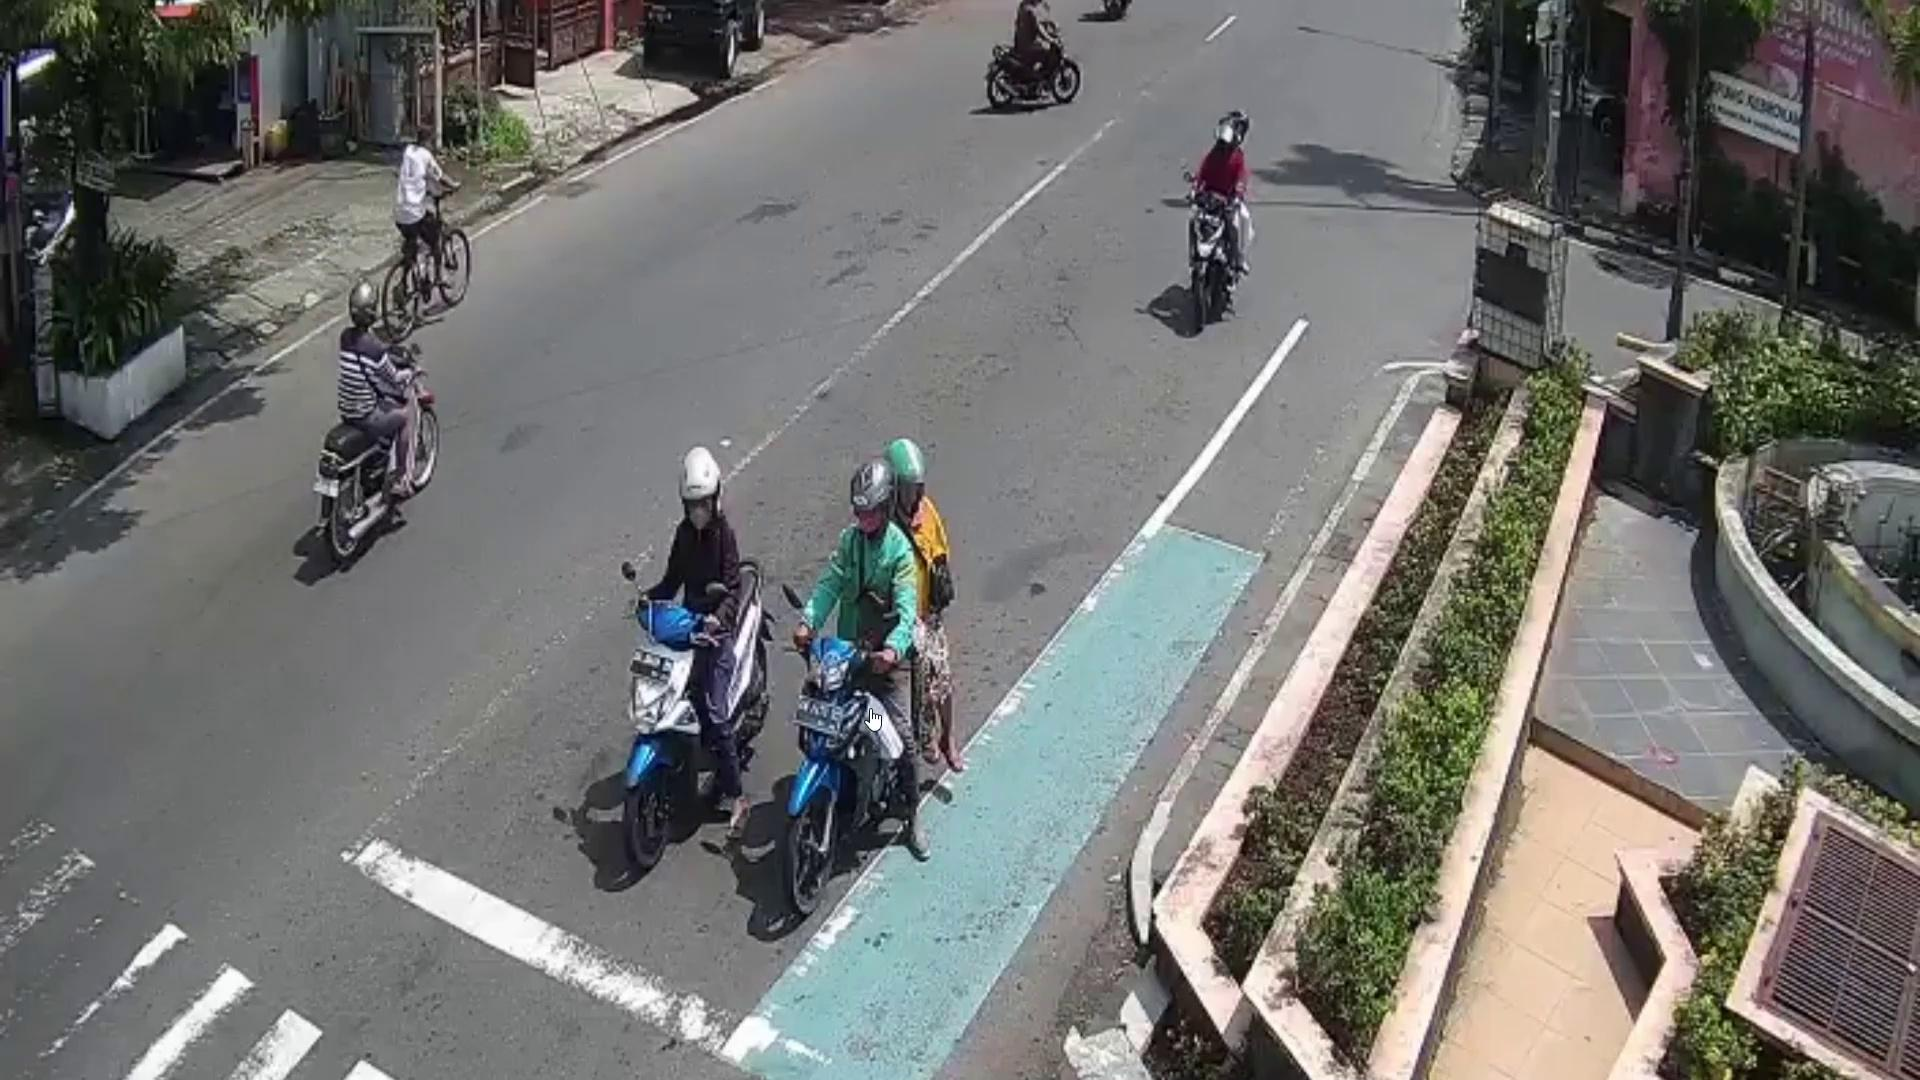motorbike: (630, 547, 777, 866), (781, 625, 935, 924), (311, 340, 435, 567), (985, 21, 1081, 115), (1185, 189, 1237, 334)
